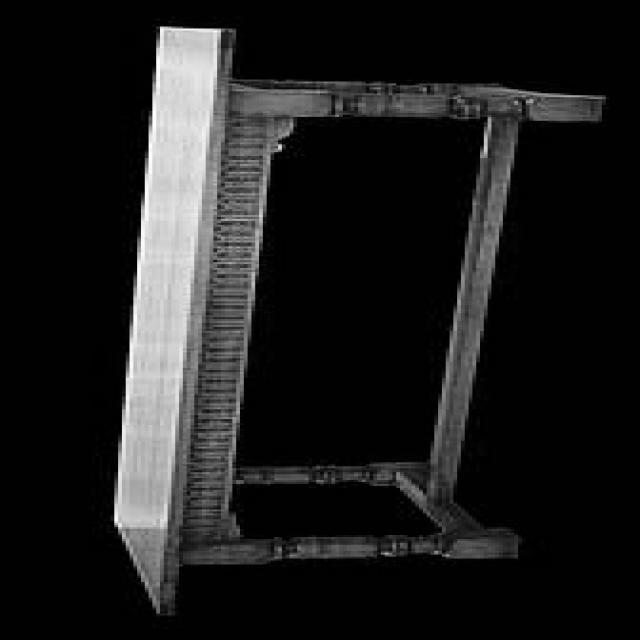table: (110, 22, 602, 612)
